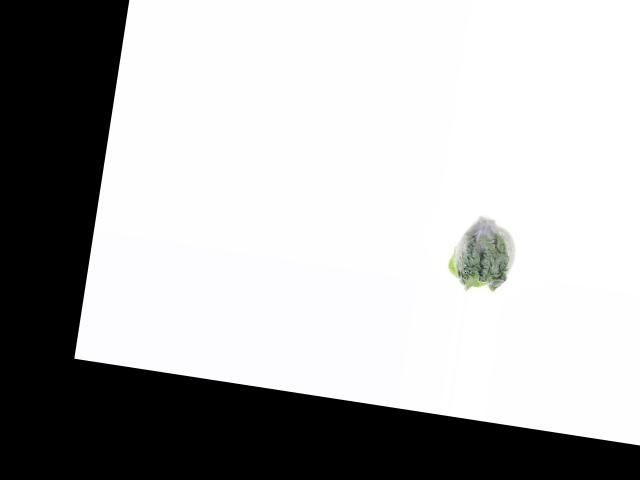lettuce: (441, 212, 522, 295)
